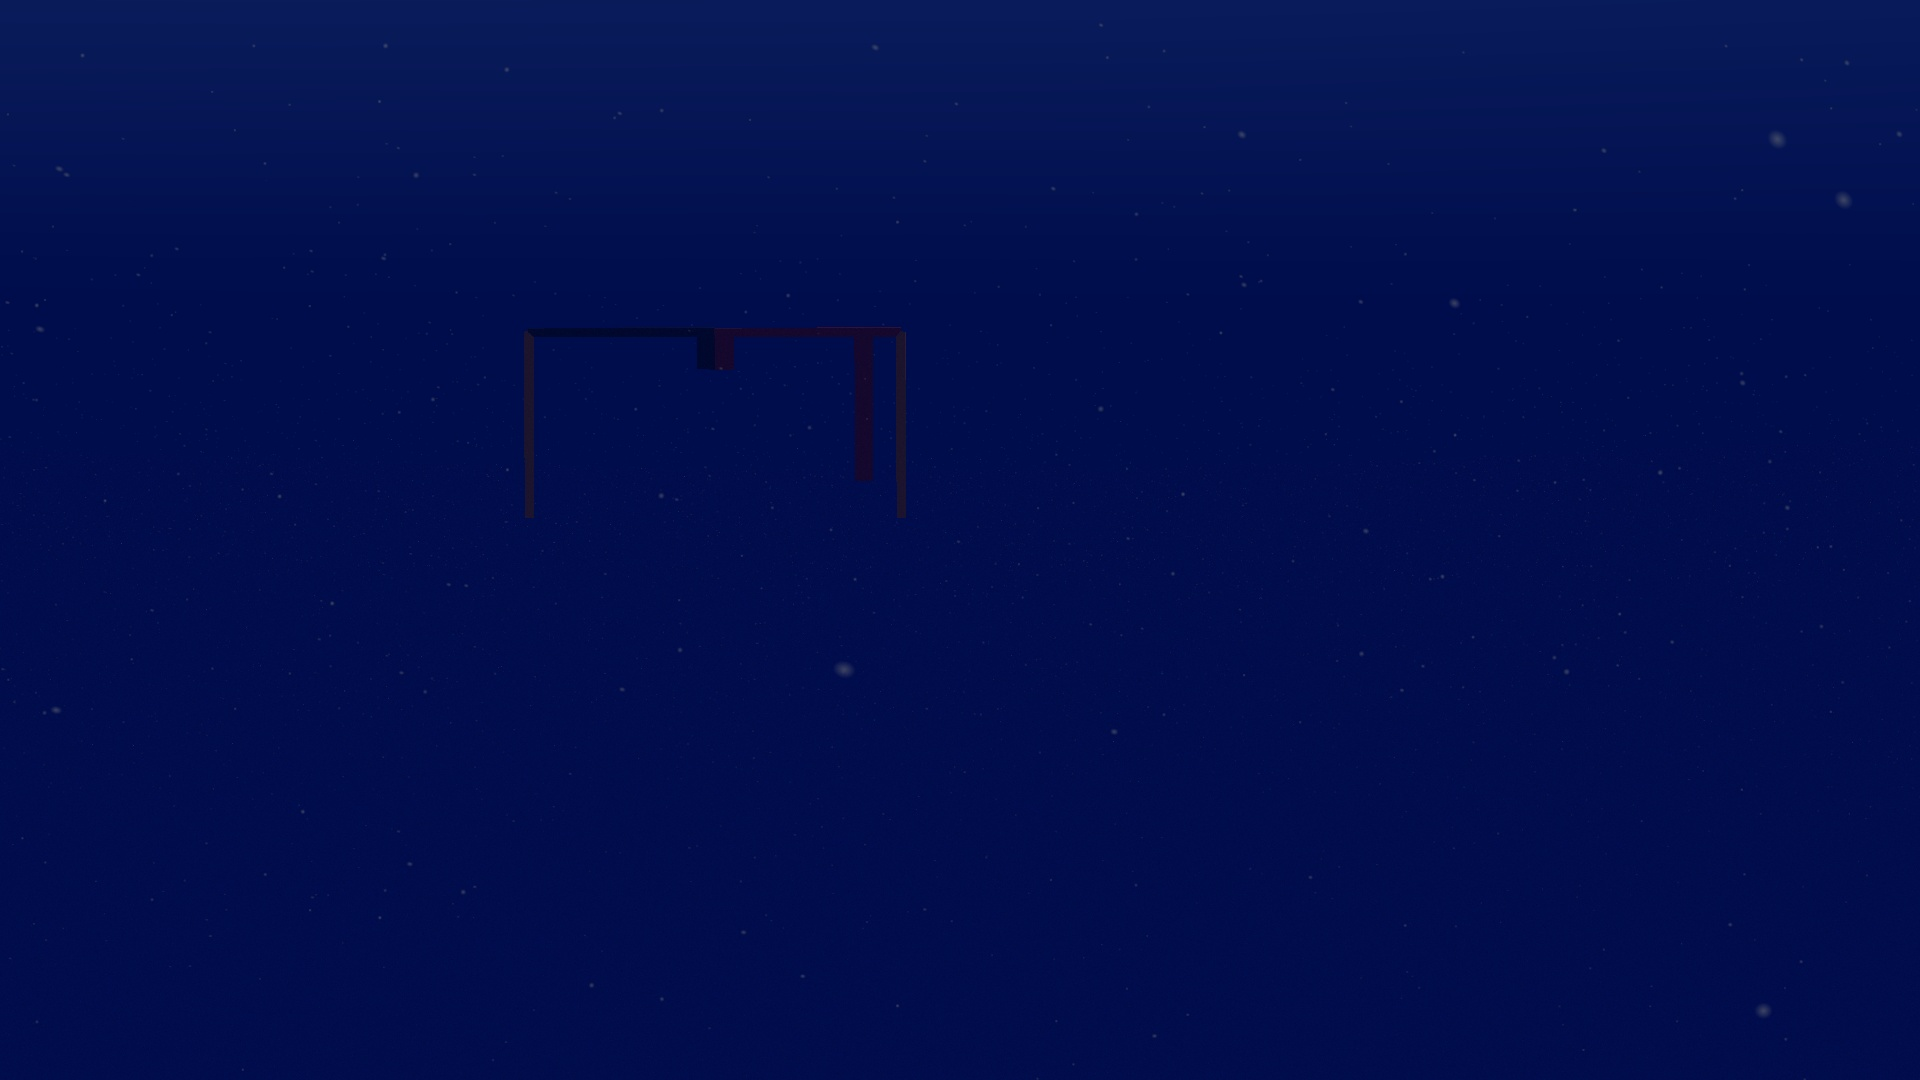Gate: (513, 319, 913, 533)
